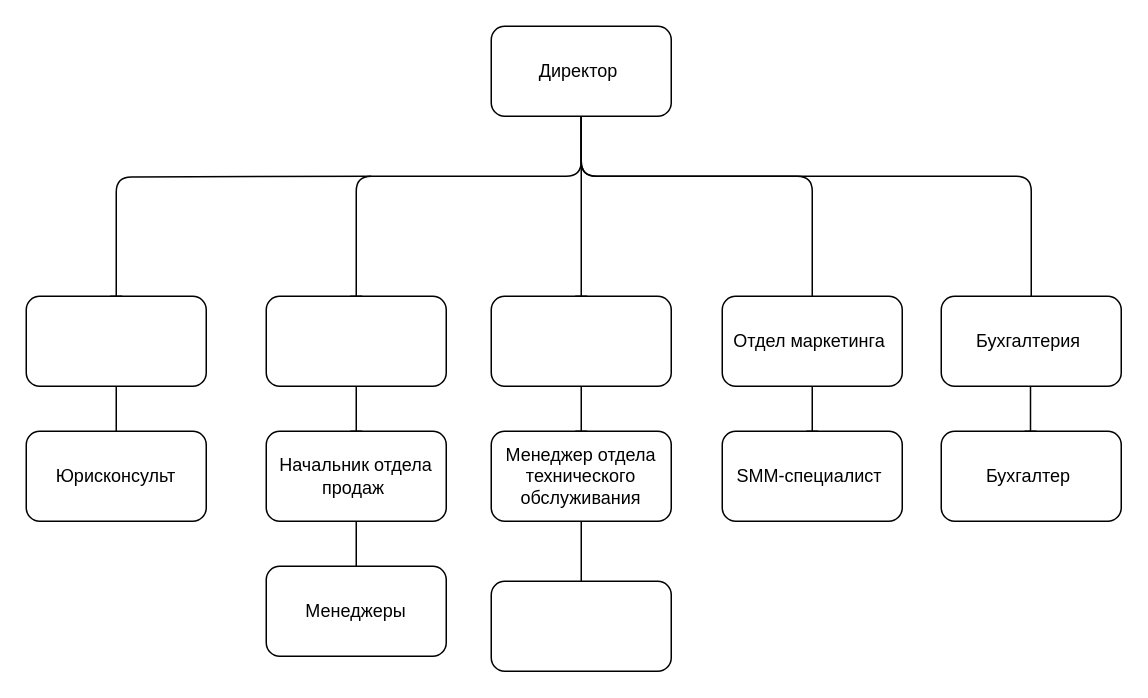
The diagram is 1148 pixels wide and 698 high, and some of its shapes have lost their labels. Each missing label, with the centre of its shape:
"Механики" belongs at point (580, 625).
"Отдел продаж" belongs at point (355, 340).
"Отдел технического обслуживания" belongs at point (580, 340).
"Юридический отдел" belongs at point (115, 340).
